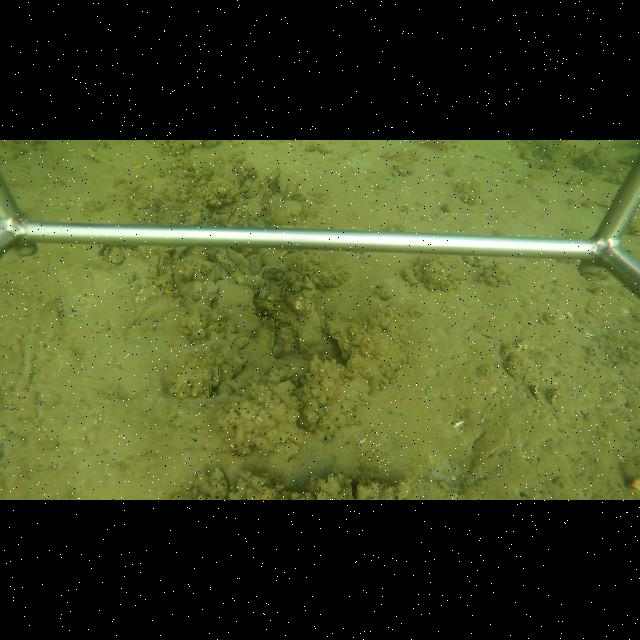Oyster-Closed: (216, 246, 254, 289), (255, 165, 281, 206), (152, 250, 173, 276), (259, 264, 291, 281), (227, 332, 252, 352), (210, 363, 224, 389), (201, 380, 215, 400)
